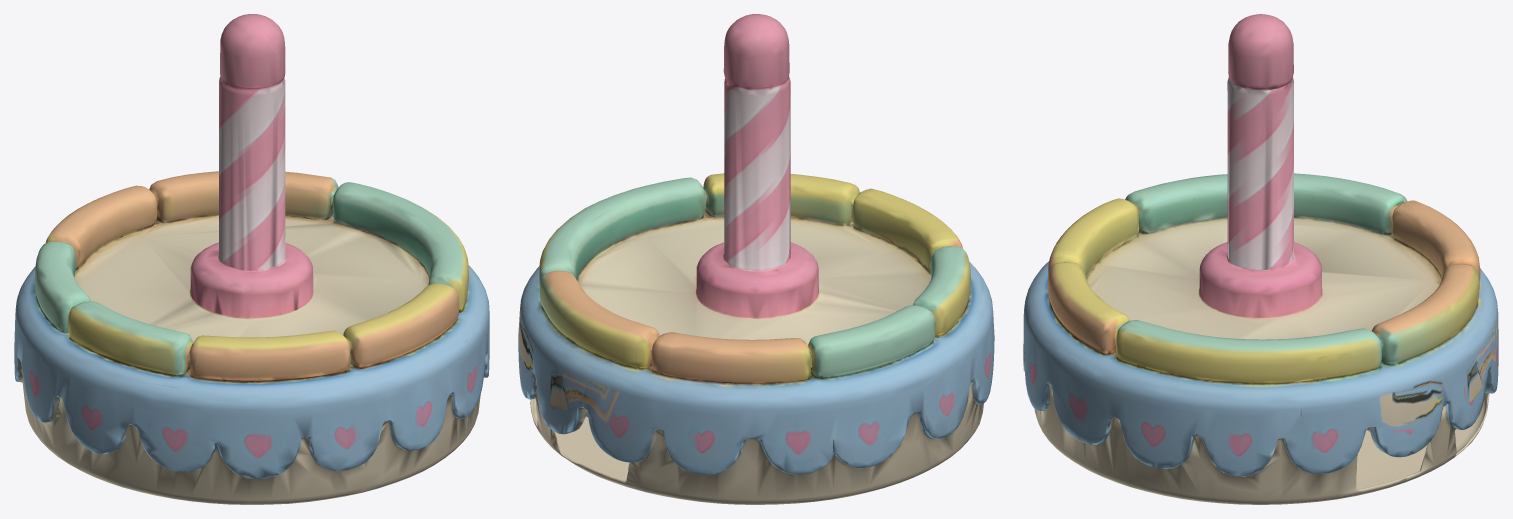
3 renders of one model, left to right at view 1: azimuth 30°, elevation 25°; view 2: azimuth 150°, elevation 25°; view 3: azimuth 270°, elevation 25°, orthographic.
Parts seen in each view (by area): view 1: repaired; view 2: repaired; view 3: repaired.
Part boxes in pixels (<box>): repaired: <box>14,14,489,504</box>; repaired: <box>518,14,994,504</box>; repaired: <box>1023,14,1498,504</box>.
Size of the model in its own units: 0.9996 by 0.9174 by 0.9997.
1 material, 1 textured.
